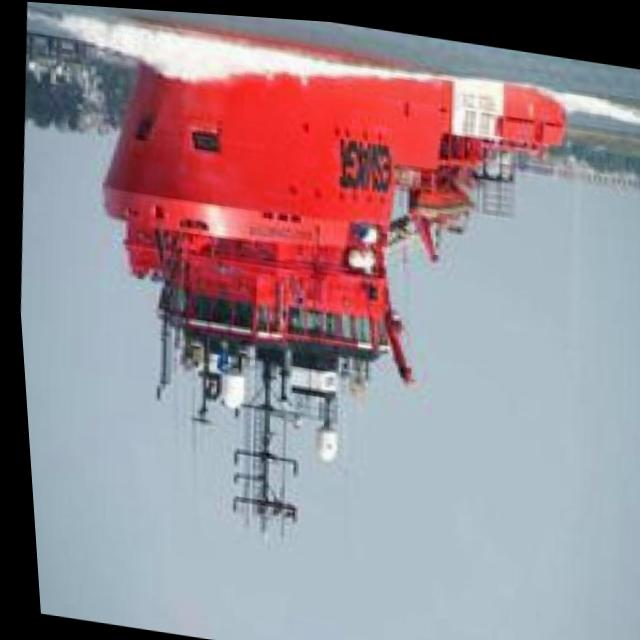ship2: (99, 11, 566, 543)
